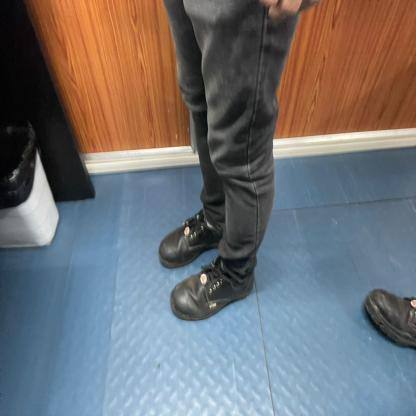bota: (169, 255, 254, 323), (158, 208, 224, 270), (359, 287, 416, 347)
